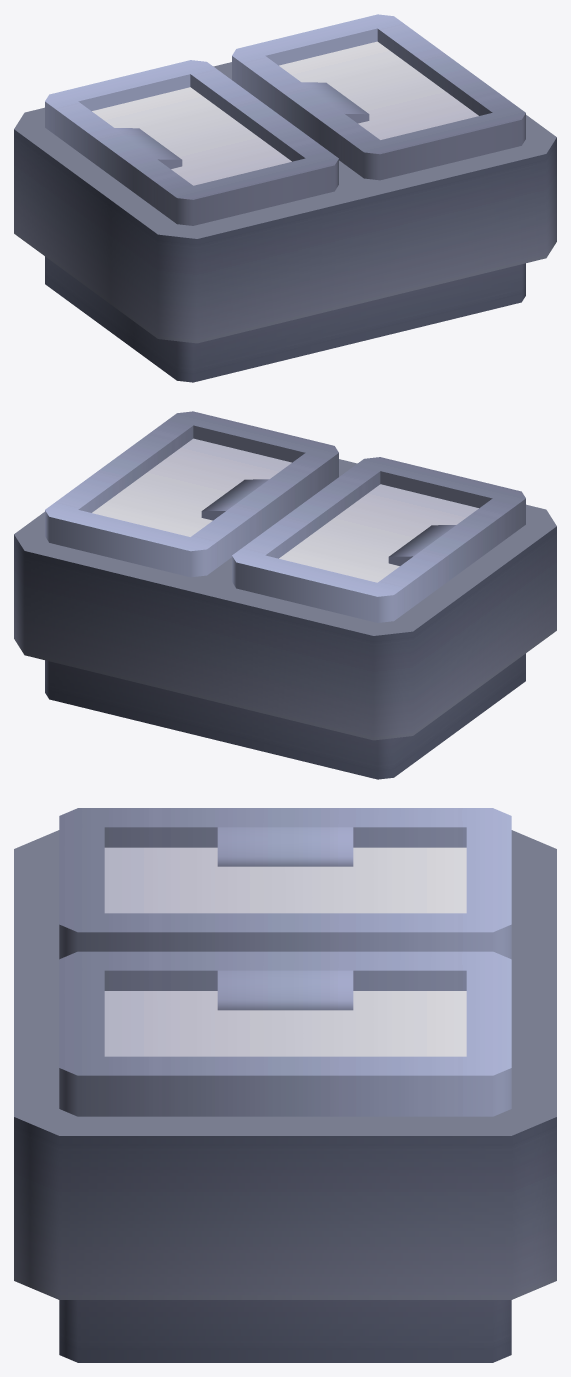
The model's file is freezer.glb.
The picture shows the model from 3 angles, top to bottom: view 1: azimuth 30°, elevation 25°; view 2: azimuth 150°, elevation 25°; view 3: azimuth 270°, elevation 25°; orthographic projection. The views are drawn at different scales.
Visible parts, largest first — view 1: freezer; view 2: freezer; view 3: freezer.
Part boxes in pixels (x1,y1,x2,y2): freezer: [14, 14, 556, 382]; freezer: [14, 411, 556, 779]; freezer: [14, 808, 556, 1362].
Size of the model in its own units: 0.8 by 0.35 by 0.6.
Materials: 1 (1 with a texture image).
